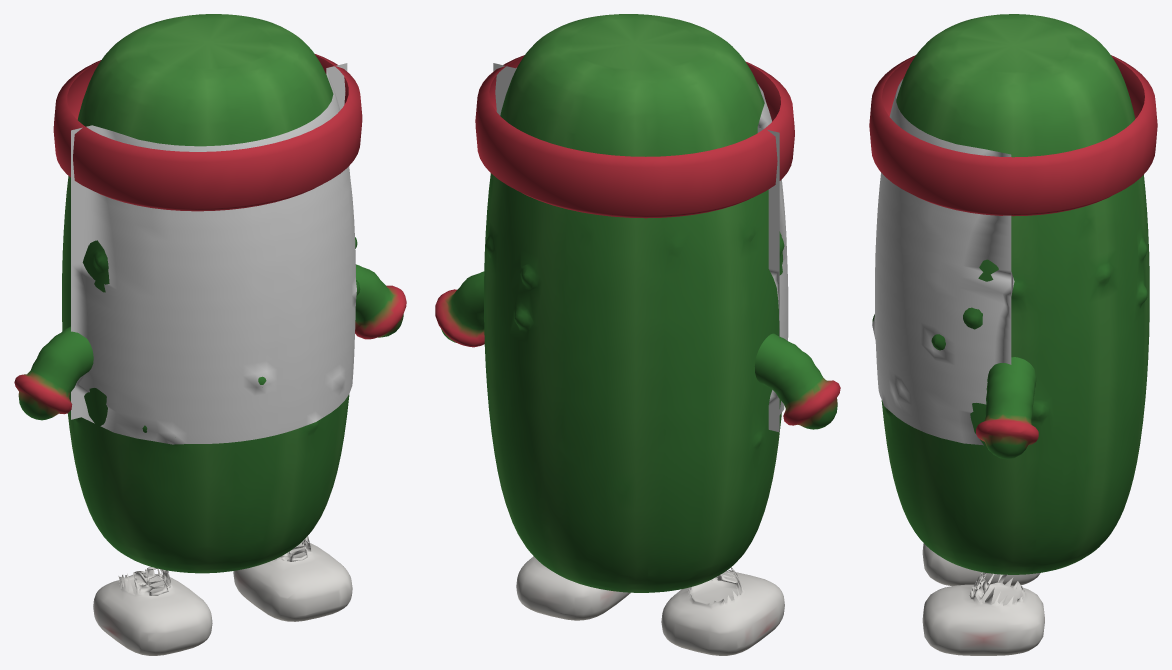
File: folk2_cuke_lod1.glb
The picture shows the model from 3 angles, left to right: view 1: azimuth 30°, elevation 25°; view 2: azimuth 150°, elevation 25°; view 3: azimuth 270°, elevation 25°; orthographic projection. The views are drawn at different scales.
Parts seen in each view (by area): view 1: cuke_body, cuke_face, cuke_foot_l, cuke_foot_r, cuke_arm_l, cuke_arm_r; view 2: cuke_body, cuke_foot_l, cuke_arm_l, cuke_foot_r, cuke_face, cuke_arm_r; view 3: cuke_body, cuke_face, cuke_foot_r, cuke_arm_r, cuke_foot_l.
Boxes of the visible parts, x1=… form: cuke_body: x1=53, y1=14, x2=362, y2=573; cuke_face: x1=71, y1=63, x2=356, y2=444; cuke_foot_l: x1=93, y1=567, x2=212, y2=655; cuke_foot_r: x1=233, y1=536, x2=352, y2=621; cuke_arm_l: x1=14, y1=326, x2=93, y2=420; cuke_arm_r: x1=355, y1=264, x2=406, y2=339; cuke_body: x1=475, y1=14, x2=794, y2=592; cuke_foot_l: x1=661, y1=567, x2=784, y2=655; cuke_arm_l: x1=754, y1=333, x2=840, y2=429; cuke_foot_r: x1=516, y1=556, x2=630, y2=620; cuke_face: x1=493, y1=63, x2=788, y2=432; cuke_arm_r: x1=435, y1=271, x2=484, y2=347; cuke_body: x1=869, y1=14, x2=1157, y2=574; cuke_face: x1=872, y1=79, x2=1014, y2=445; cuke_foot_r: x1=922, y1=572, x2=1044, y2=655; cuke_arm_r: x1=976, y1=357, x2=1038, y2=459; cuke_foot_l: x1=922, y1=543, x2=1040, y2=585.
Bounding box in the file's own units: 0.8586 × 1.22 × 0.5637.
